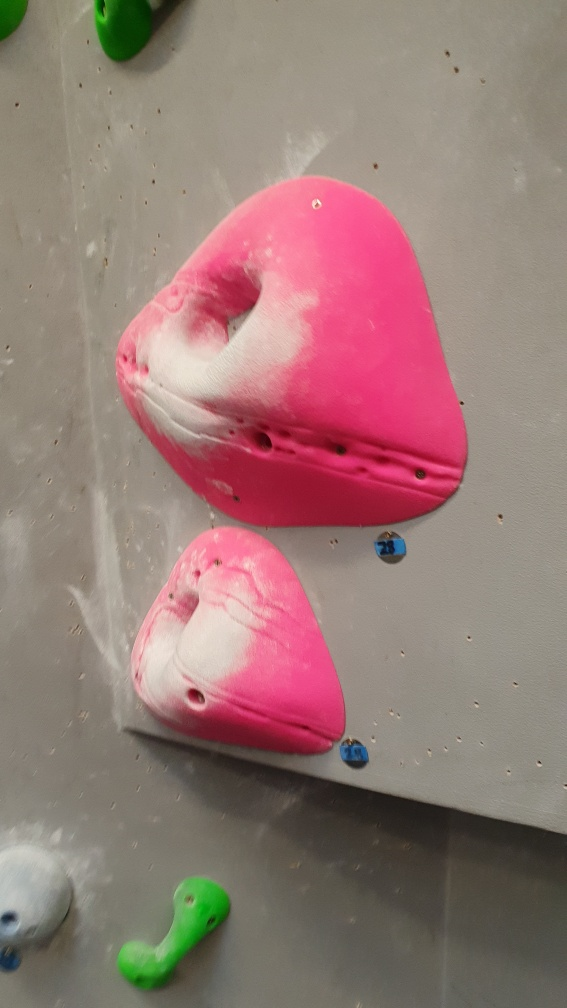Hand Start: (370, 523, 414, 566), (335, 735, 372, 774)
Pocket: (110, 170, 469, 529), (125, 524, 352, 765)
